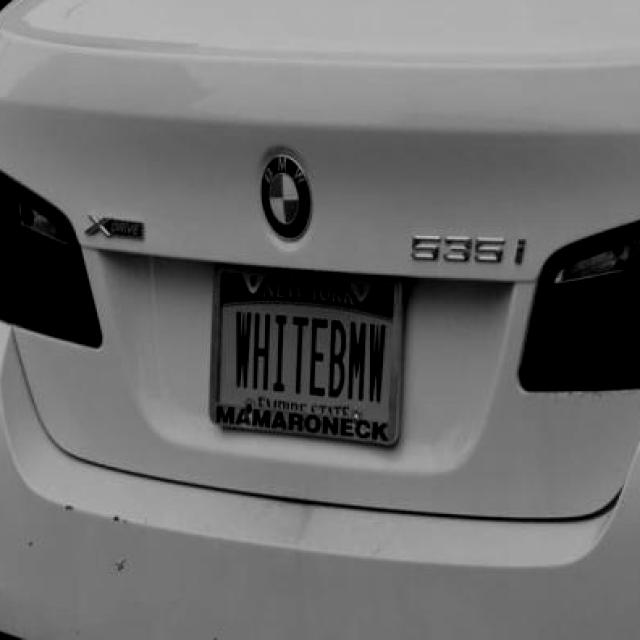licenseplate: (198, 261, 411, 448)
